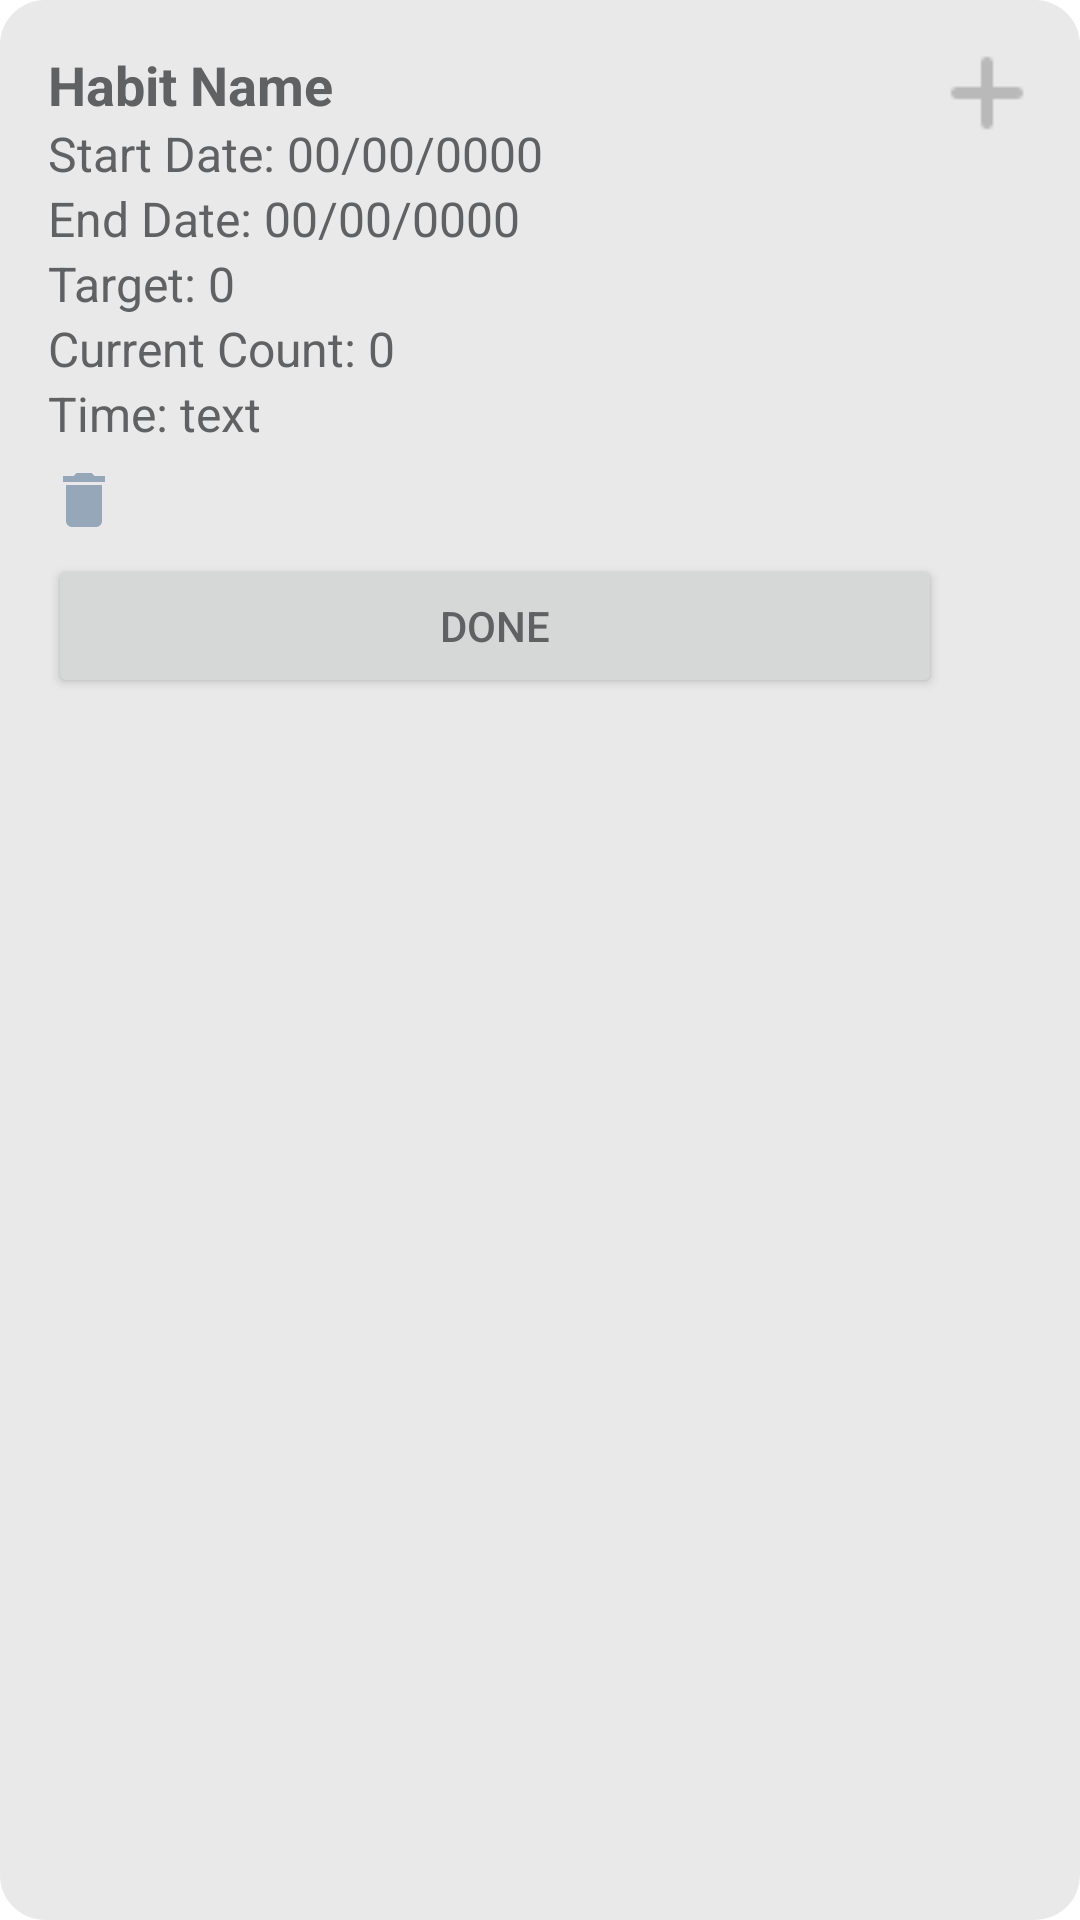

Named icons in this screenshot (1080px×1920px) and their centers, point (x, y):
plus: point (987, 93)
